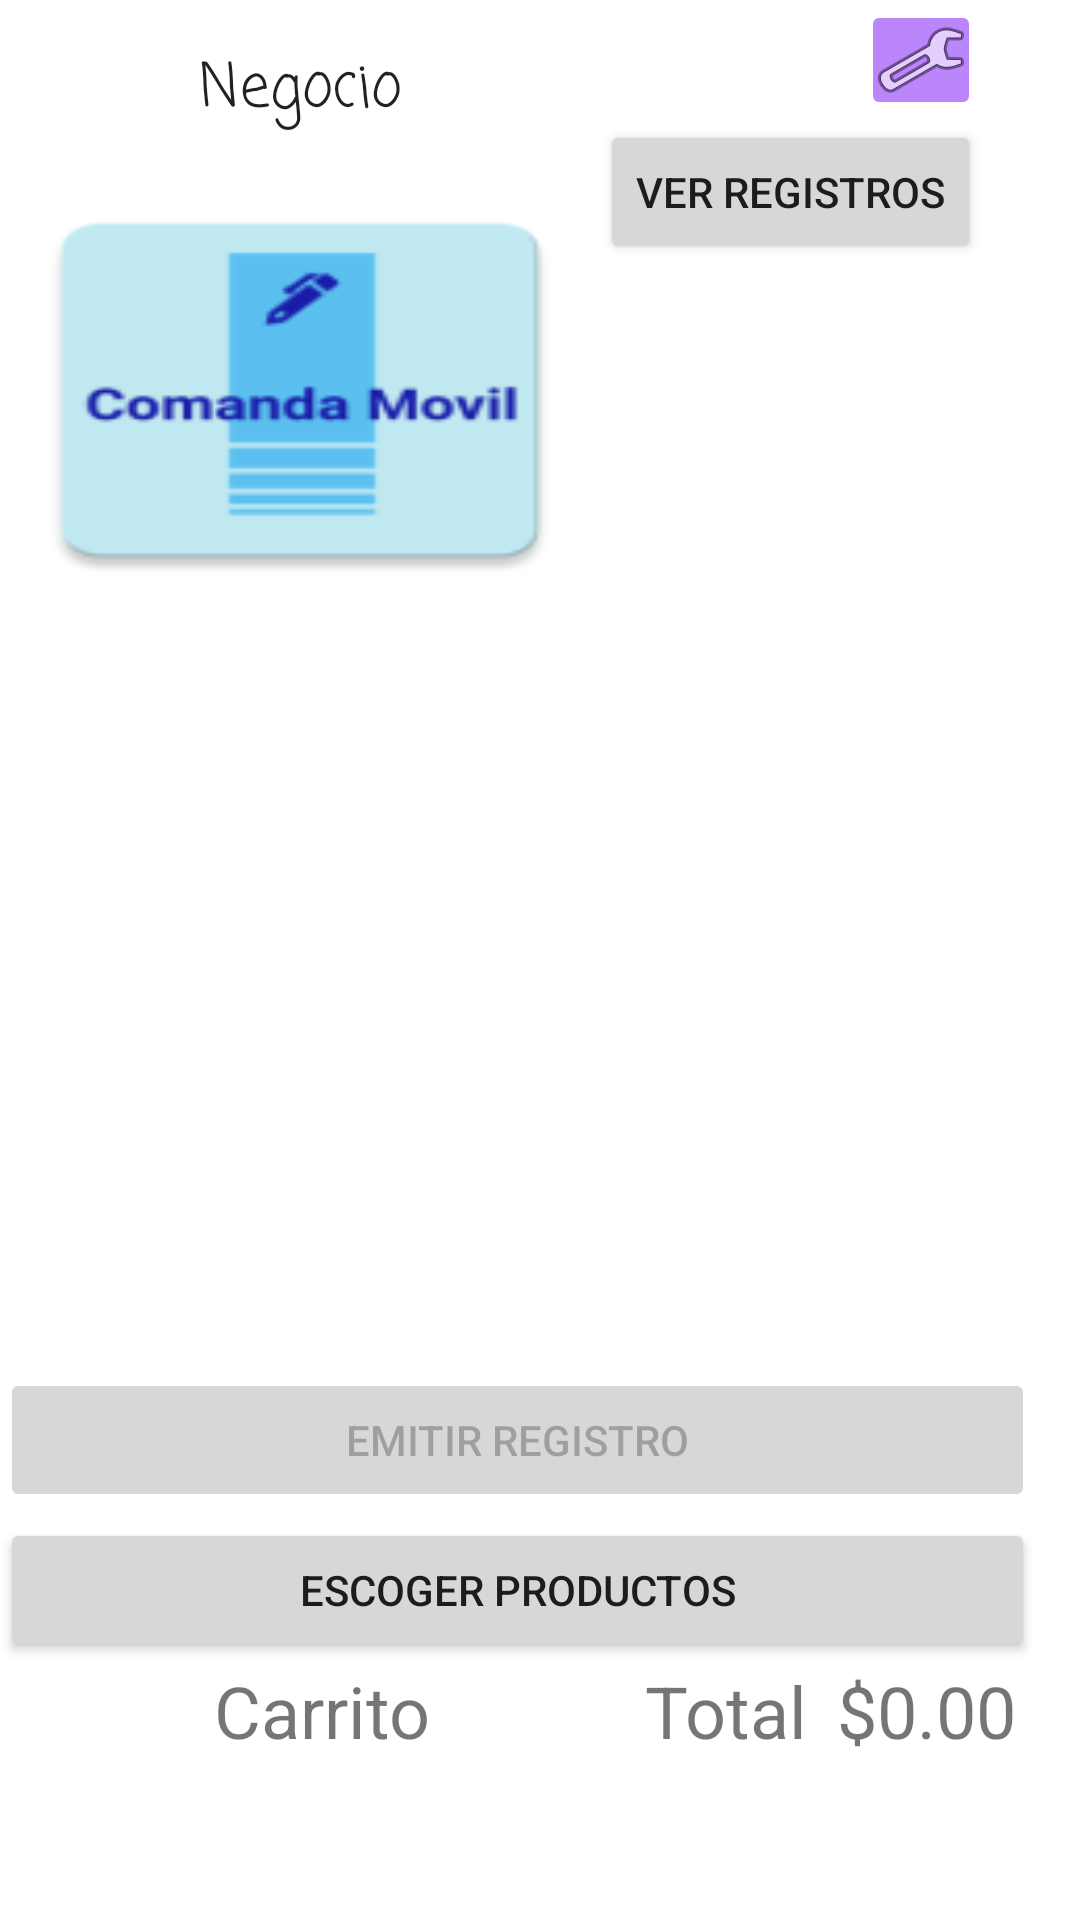

Named icons in this screenshot (1080w x 1920h) and their centers, [x,y]:
manage: [921,60]
